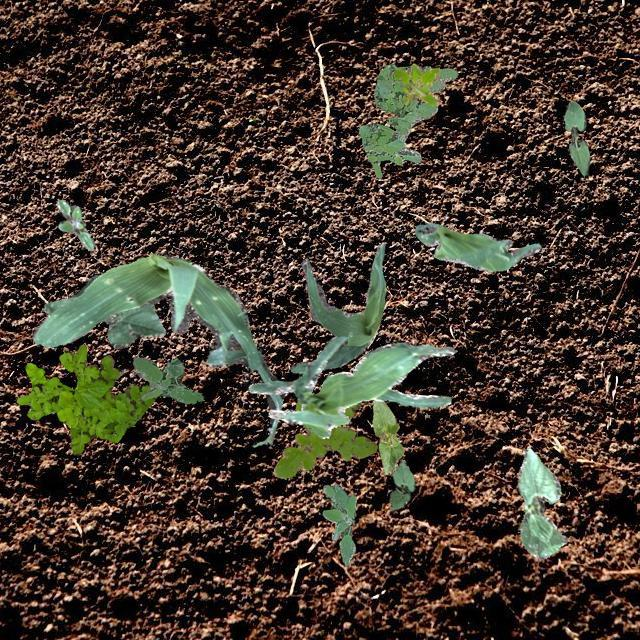crop: (32, 252, 284, 446), (248, 336, 454, 438), (290, 244, 384, 372), (42, 274, 164, 348), (414, 222, 540, 270), (516, 448, 566, 558), (372, 398, 404, 474), (562, 100, 588, 176), (388, 458, 414, 509)
weed: (16, 344, 156, 454), (358, 64, 457, 176), (273, 400, 377, 478), (132, 356, 202, 402), (322, 484, 354, 564), (54, 198, 94, 250), (392, 62, 439, 106)
